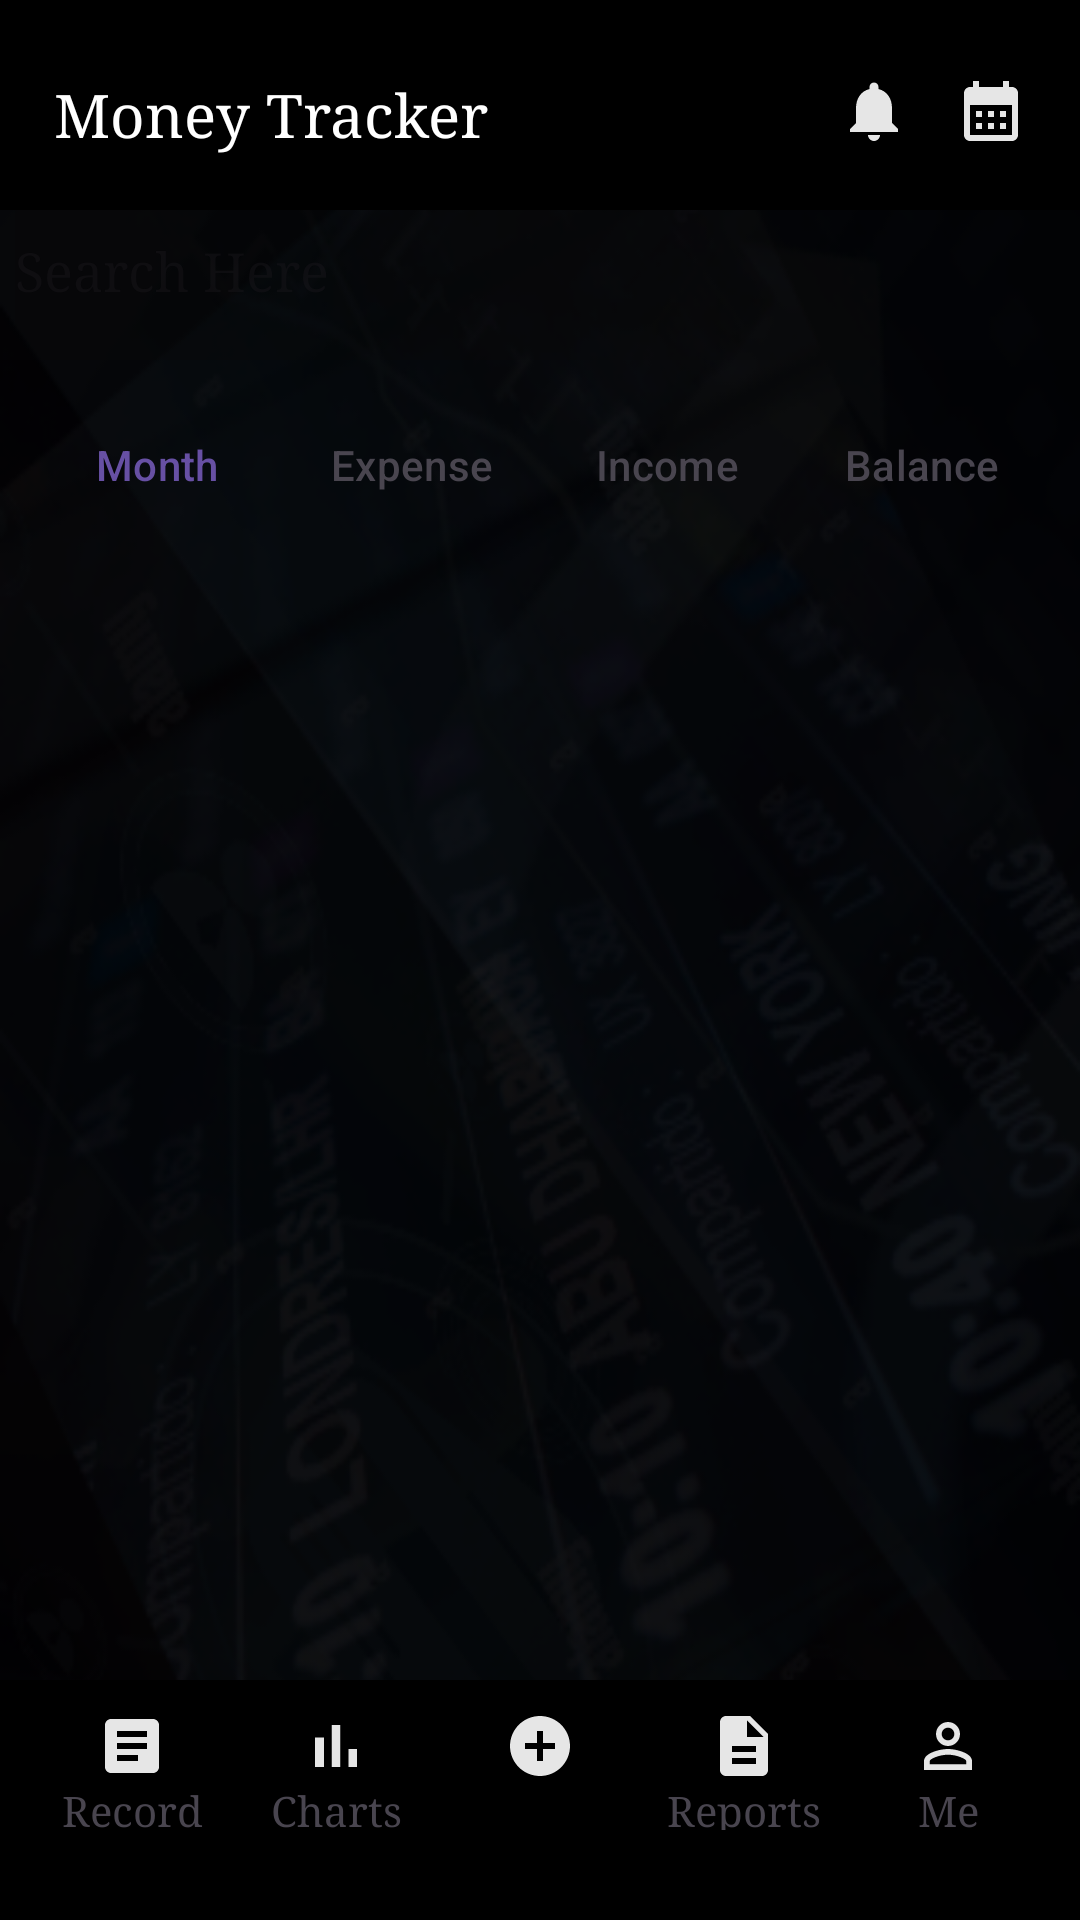

Icons on this 1080x1920 Android screen, each with its box as (x1, y1, x2, y2):
alert bd: (850, 82, 898, 141)
calender bd: (964, 81, 1018, 141)
